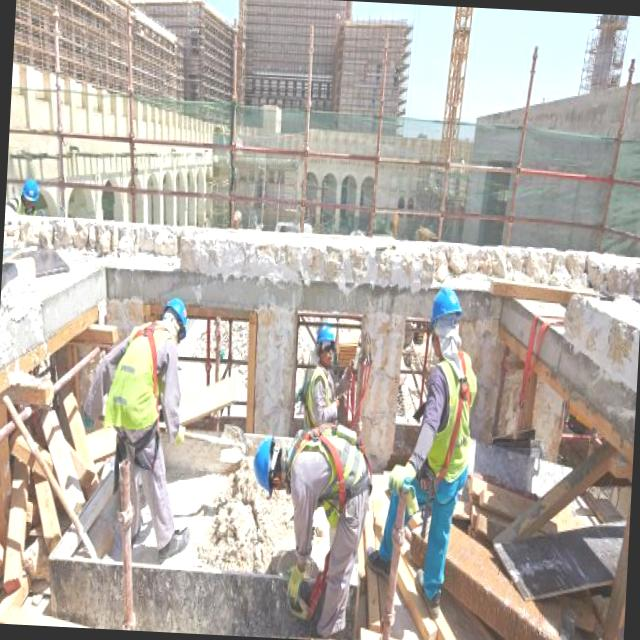boots: (146, 506, 194, 564)
helmet: (254, 431, 276, 485), (434, 288, 464, 320), (168, 294, 190, 330), (316, 324, 338, 344)
person: (368, 275, 477, 622), (90, 280, 214, 572), (235, 417, 376, 640), (292, 304, 372, 426)
vest: (108, 324, 170, 441), (428, 356, 474, 482), (298, 425, 364, 505)
